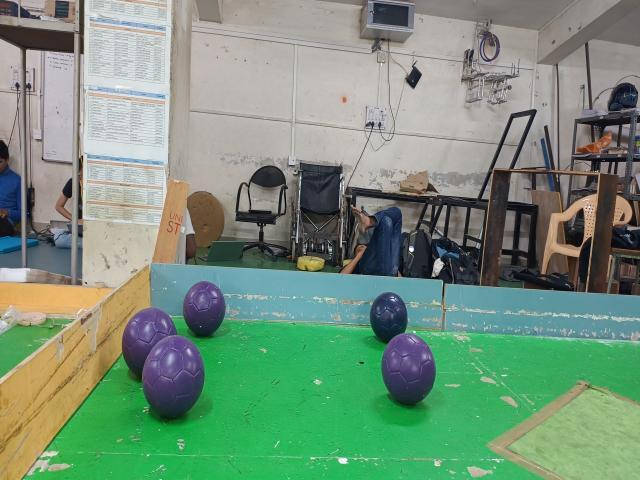jambhalya: (142, 335, 205, 418), (122, 307, 178, 378), (381, 333, 436, 405), (182, 282, 225, 337)
kaalyya: (370, 292, 408, 343)
